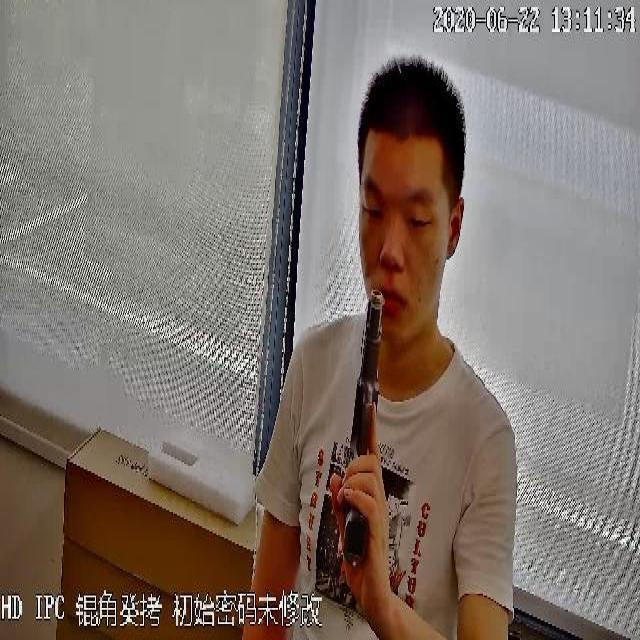pistol: (336, 288, 386, 567)
